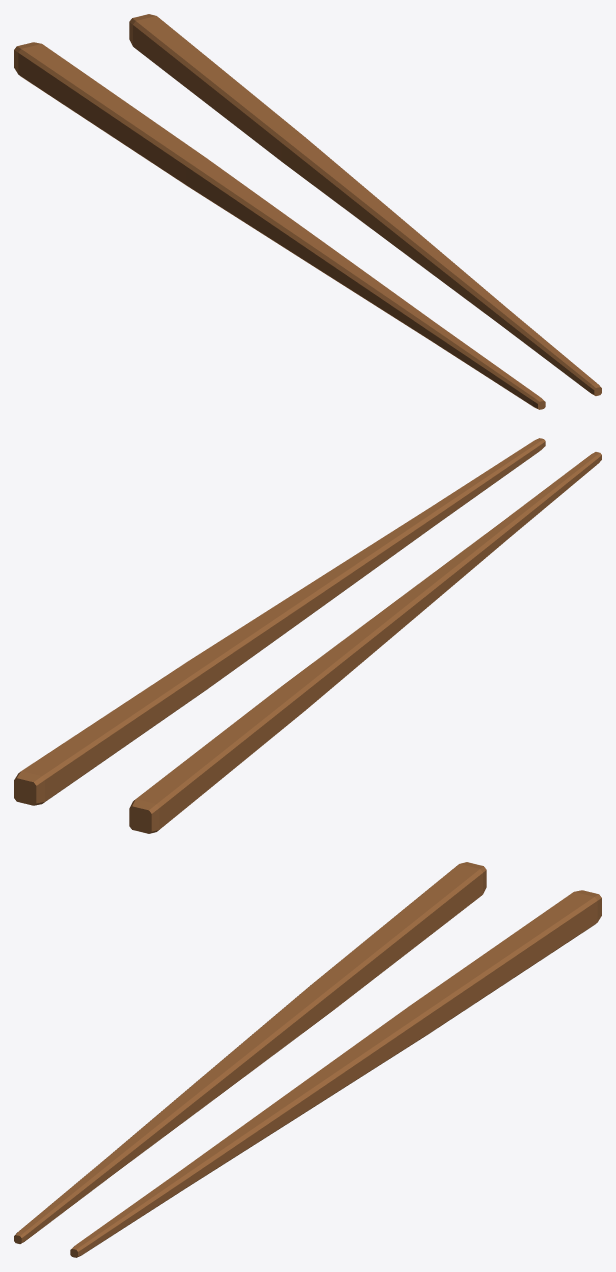
File: NEW_RECOVERY_079_LOD0.glb
The picture shows the model from 3 angles, top to bottom: view 1: azimuth 30°, elevation 25°; view 2: azimuth 150°, elevation 25°; view 3: azimuth 330°, elevation 25°; orthographic projection.
Visible parts, largest first — view 1: Chopstick 1, Chopstick 2; view 2: Chopstick 2, Chopstick 1; view 3: Chopstick 2, Chopstick 1.
Part boxes in pixels (<box>): Chopstick 1: <box>14,42,545,409</box>; Chopstick 2: <box>129,14,601,395</box>; Chopstick 2: <box>14,438,545,805</box>; Chopstick 1: <box>129,452,601,833</box>; Chopstick 2: <box>70,890,601,1257</box>; Chopstick 1: <box>14,862,486,1243</box>.
Bounding box in the file's own units: 0.0402 × 0.0076 × 0.24.
